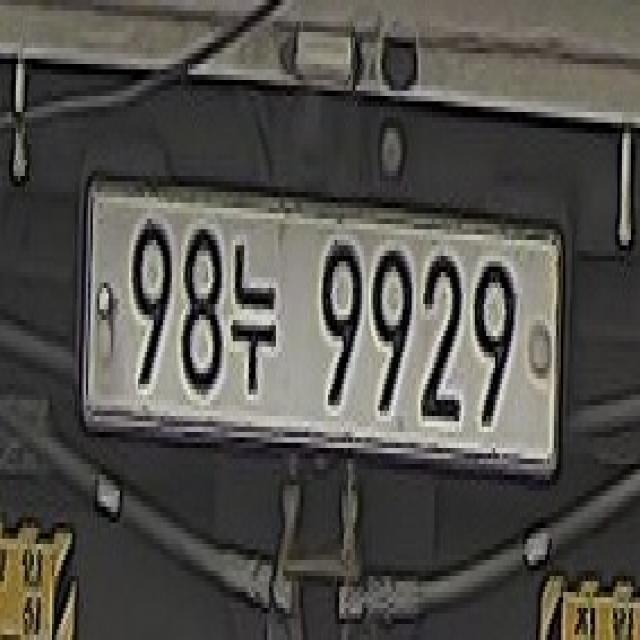2: (418, 241, 469, 436)
8: (179, 214, 226, 396)
9: (315, 231, 364, 418), (128, 208, 174, 398), (473, 245, 519, 432), (368, 236, 416, 414)
license_plate: (81, 166, 571, 486)
nu: (228, 228, 280, 399)
